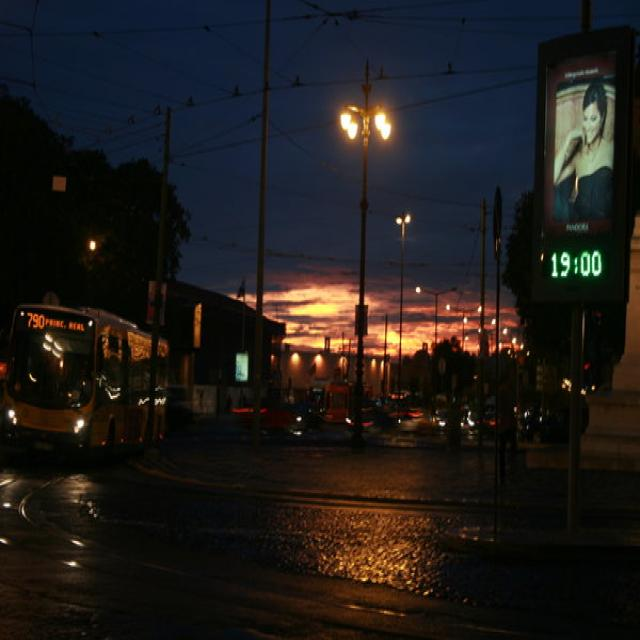Bus: (16, 292, 181, 486)
People: (552, 64, 610, 261)
car: (219, 385, 303, 455), (372, 405, 445, 454), (318, 376, 352, 450)
